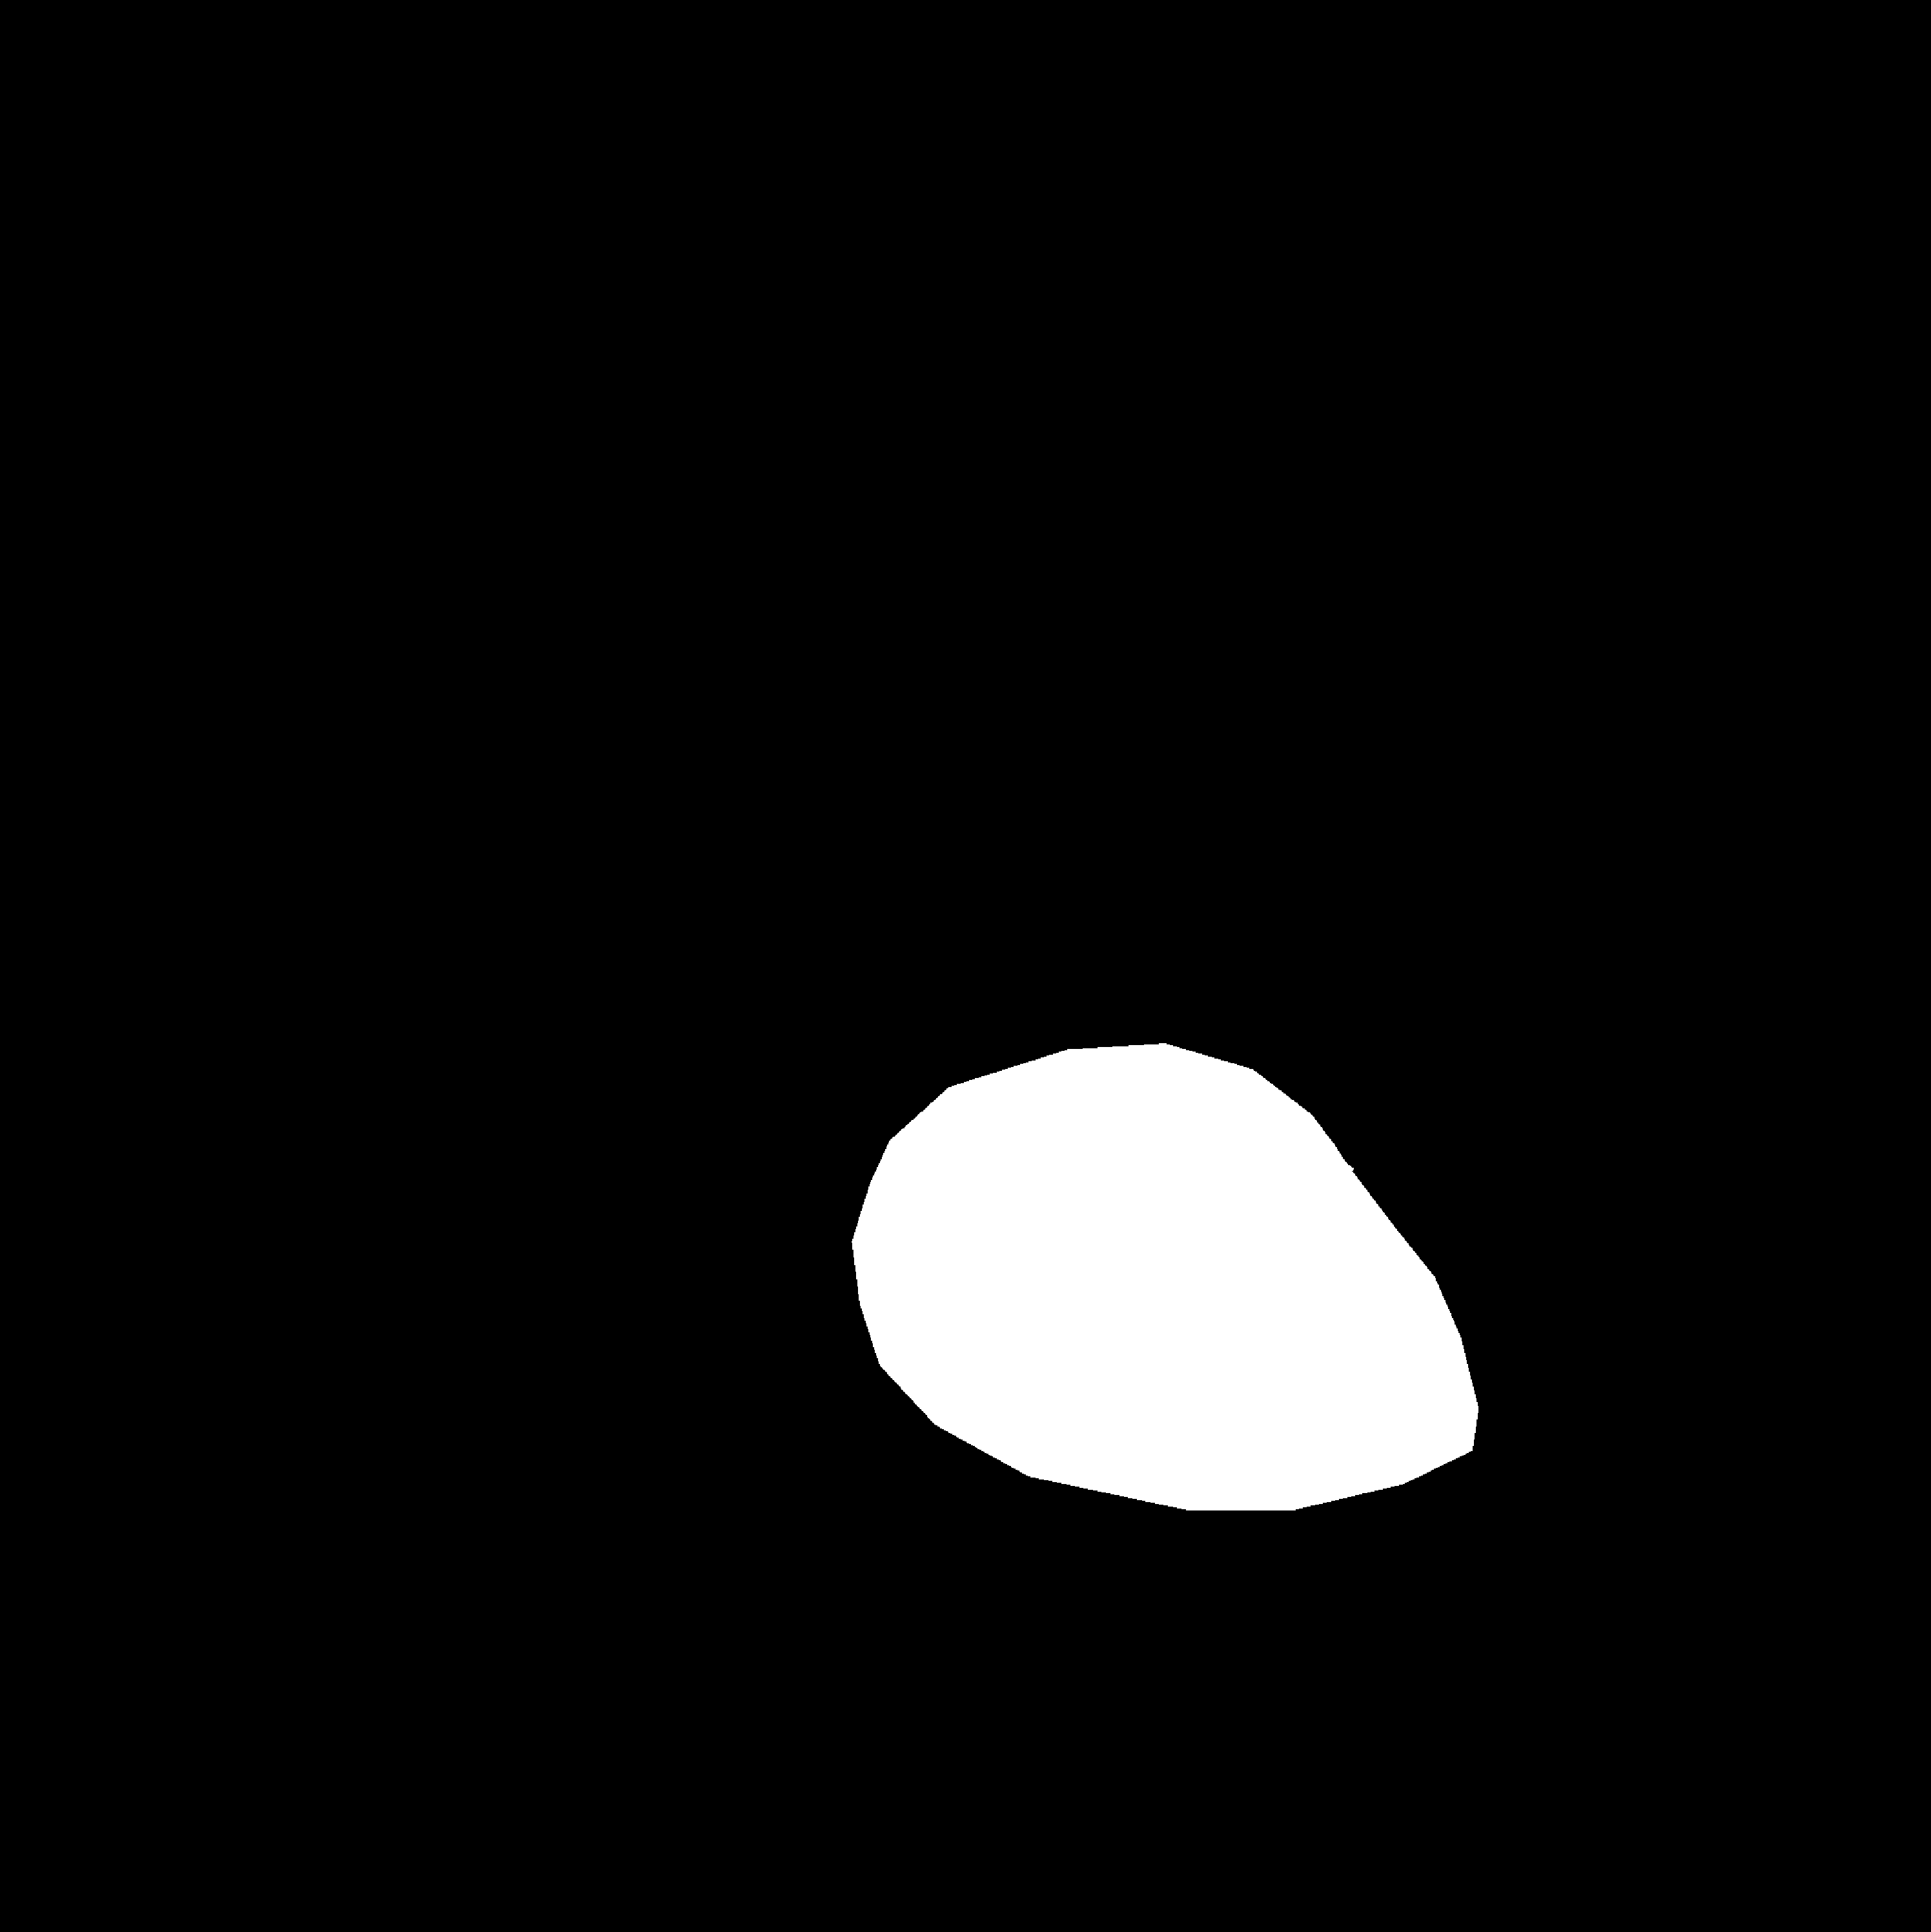heart: (847, 1076, 1489, 1533)
left_lung: (325, 410, 888, 1619)
right_lung: (1027, 371, 1682, 1582)
